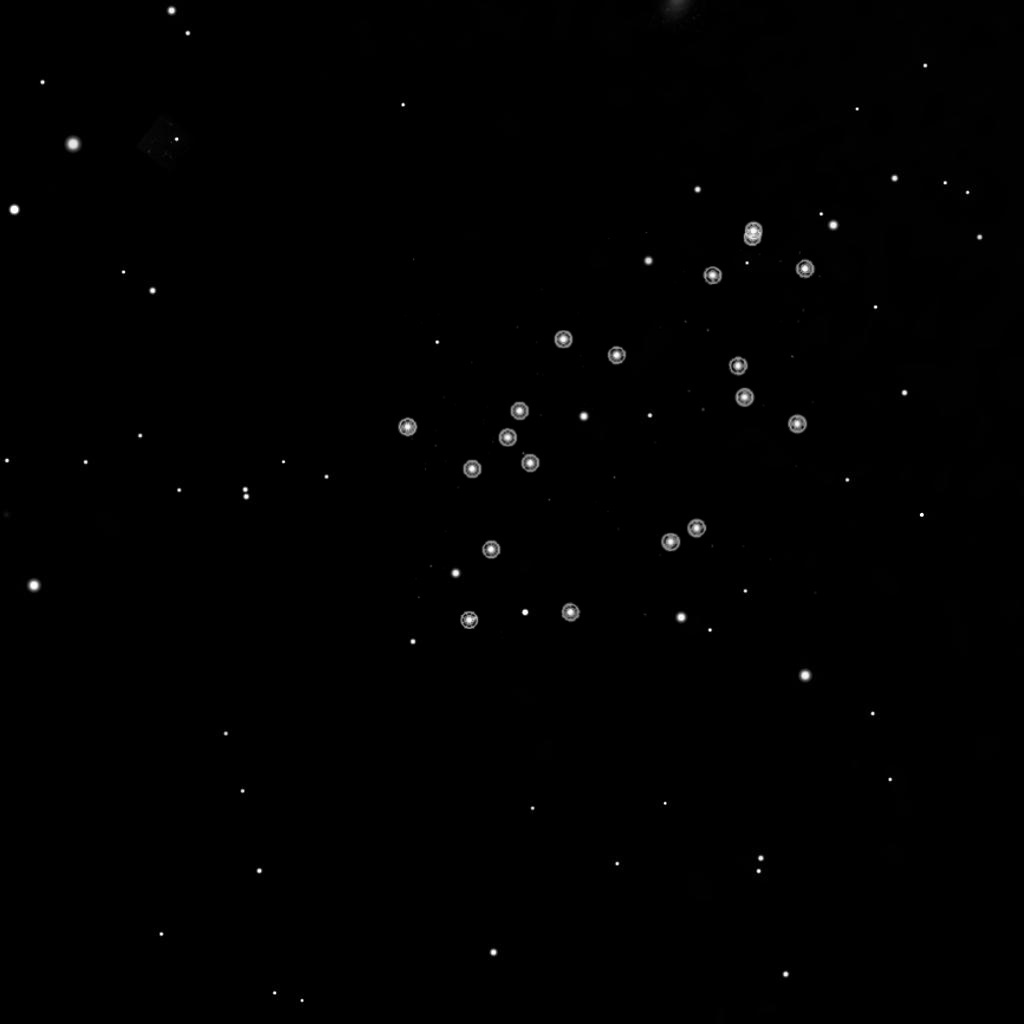canis_major: (456, 323, 631, 486)
